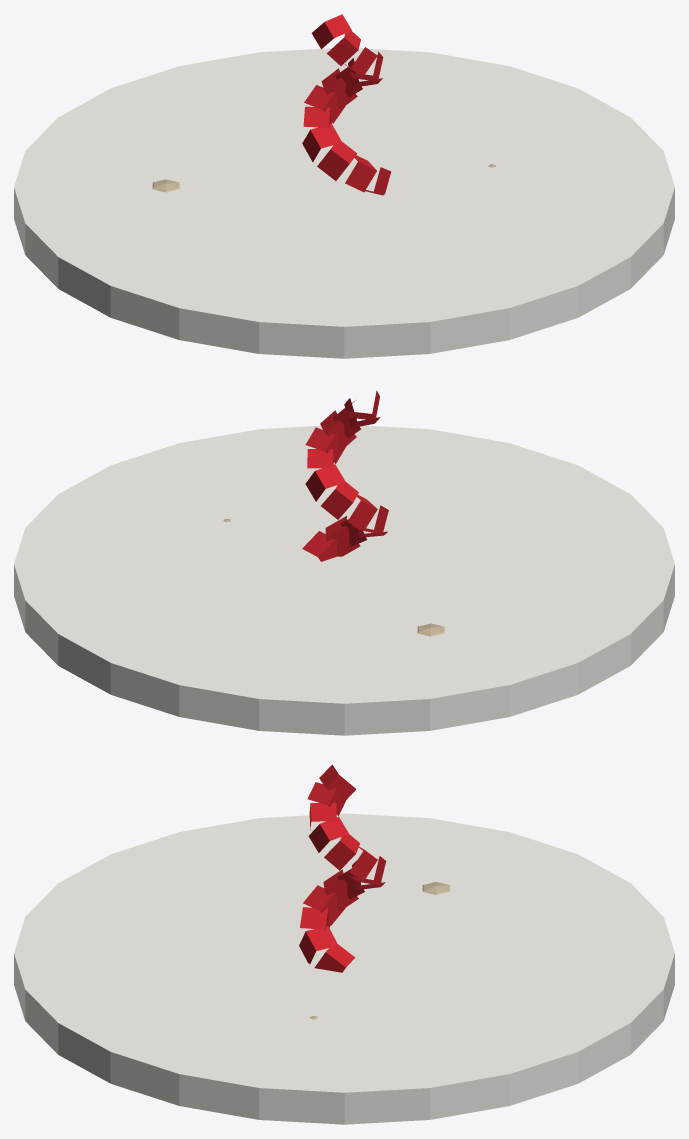
Rendered from rb_ribbon.glb.
3 renders of one model, top to bottom at view 1: azimuth 30°, elevation 25°; view 2: azimuth 150°, elevation 25°; view 3: azimuth 270°, elevation 25°, orthographic.
Parts seen in each view (by area): view 1: rb_ribbon_lod0; view 2: rb_ribbon_lod0; view 3: rb_ribbon_lod0.
Part boxes in pixels (<box>): rb_ribbon_lod0: <box>14,14,674,358</box>; rb_ribbon_lod0: <box>14,390,674,735</box>; rb_ribbon_lod0: <box>14,764,674,1124</box>.
Size of what is drawn, in the model's own units: 21.6 by 7.5 by 21.6.
